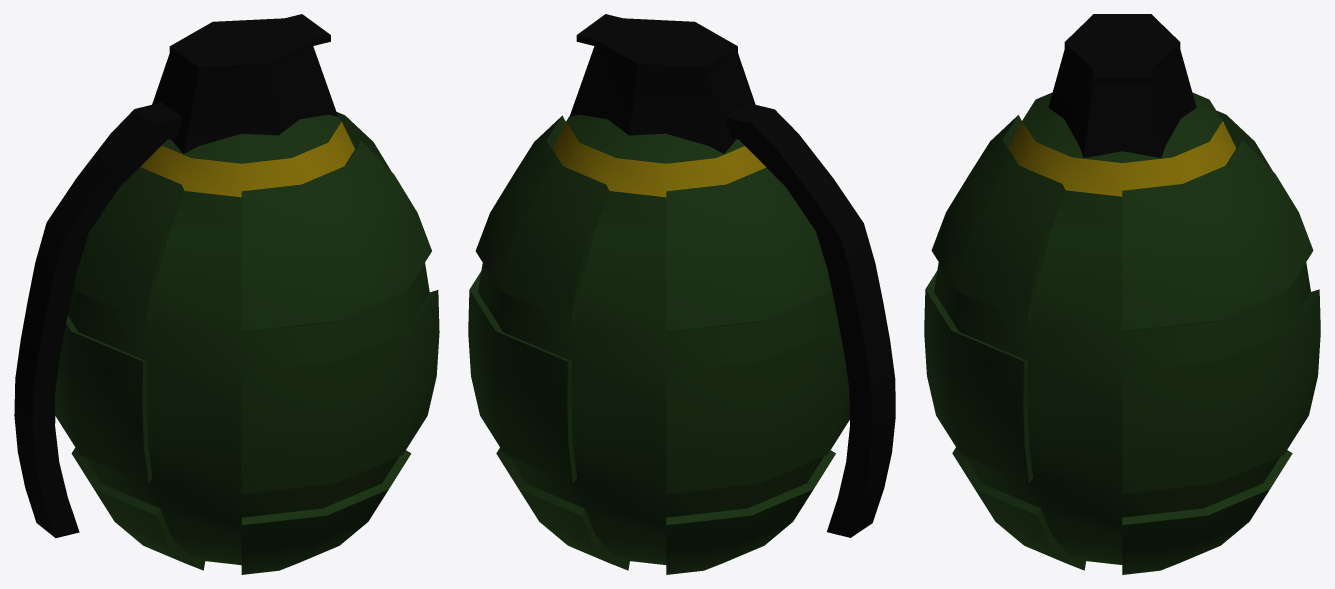
Rendered from Grenade.fbx.
3 renders of one model, left to right at view 1: azimuth 30°, elevation 25°; view 2: azimuth 150°, elevation 25°; view 3: azimuth 270°, elevation 25°, orthographic.
Visible parts, largest first — view 1: 球, 立方体, 円柱; view 2: 球, 立方体, 円柱; view 3: 球, 円柱.
Part boxes in pixels (x1,y1,x2,y2): 球: [55, 112, 439, 574]; 立方体: [14, 102, 182, 537]; 円柱: [152, 14, 337, 153]; 球: [468, 114, 849, 574]; 立方体: [725, 102, 895, 537]; 円柱: [570, 14, 755, 153]; 球: [924, 92, 1320, 574]; 円柱: [1048, 14, 1196, 157].
Bounding box in the file's own units: 26.83 × 33.15 × 23.55.
